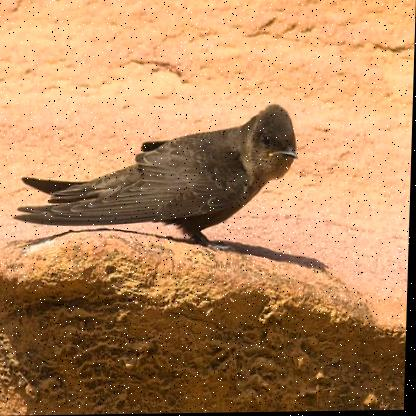Burung: (14, 104, 301, 255)
